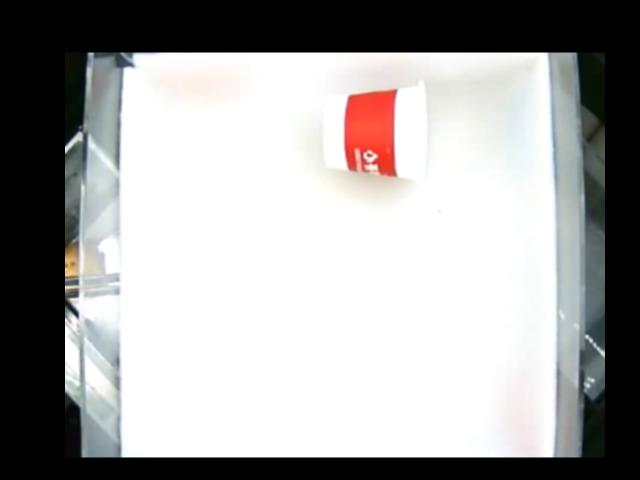Cup: (322, 80, 435, 181)
